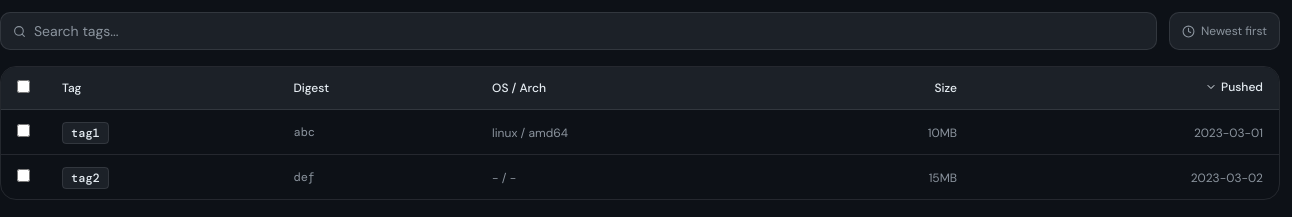
it: TagsTab › selection › selects a single tag and shows the bulk-delete button
The width and height of the screenshot is (1292, 217).
Click the checkbox named "Select tag1": click(24, 130) left=17, top=124, right=30, bottom=137
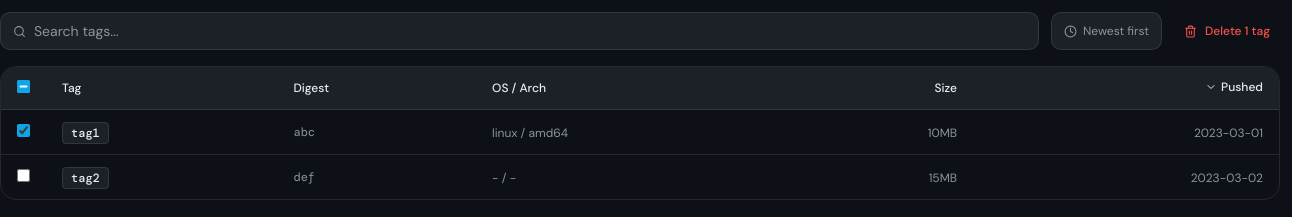
Expected: the button "Delete 1 tag" is shown, left=1174, top=17, right=1280, bottom=45
